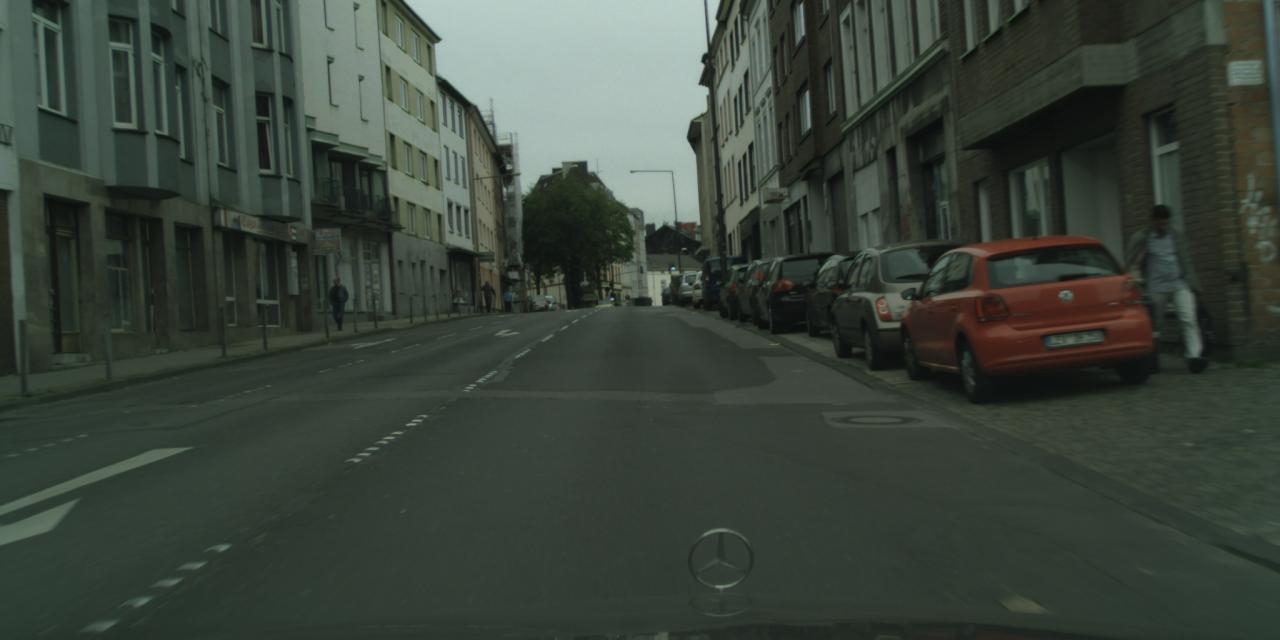ped: (1132, 204, 1200, 371), (327, 277, 348, 329), (481, 280, 493, 312), (502, 289, 512, 312)
